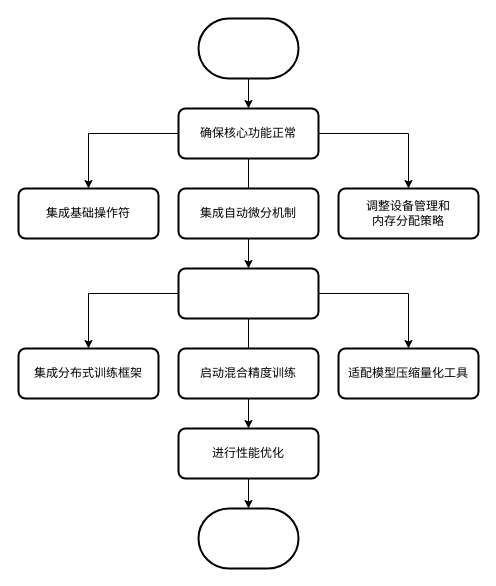
Image size: 496x586. Some labels were removed from this diagram. The box of each missing label's shape, as (x1, y1, x2, y2) in pixels:
完成: (197, 507, 299, 569)
开始: (197, 17, 299, 79)
支持高级特性: (177, 267, 319, 319)
